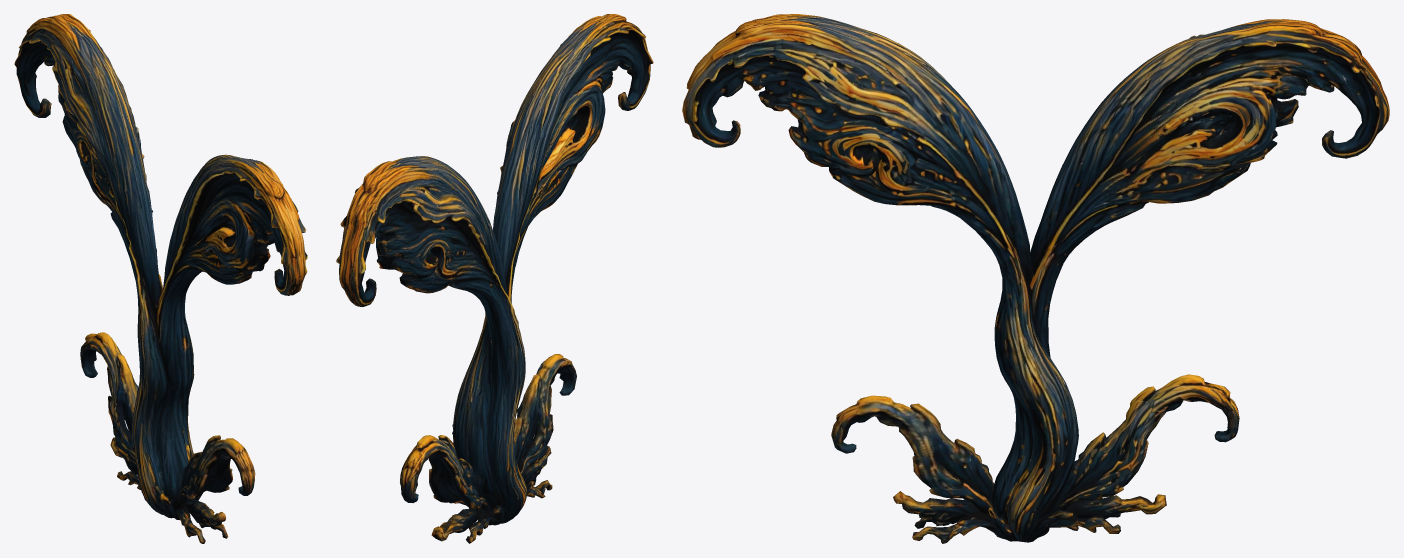
File: y-shaped+plant+3d+model+1k.glb
The picture shows the model from 3 angles, left to right: view 1: azimuth 30°, elevation 25°; view 2: azimuth 150°, elevation 25°; view 3: azimuth 270°, elevation 25°; orthographic projection. The views are drawn at different scales.
Parts seen in each view (by area): view 1: tripo_node_b3a52a74-3a1e-4b77-9e0b-5d9bd2315a94; view 2: tripo_node_b3a52a74-3a1e-4b77-9e0b-5d9bd2315a94; view 3: tripo_node_b3a52a74-3a1e-4b77-9e0b-5d9bd2315a94.
Boxes of the visible parts, x1,y1,x2,y2 form: tripo_node_b3a52a74-3a1e-4b77-9e0b-5d9bd2315a94: (14, 14, 307, 543); tripo_node_b3a52a74-3a1e-4b77-9e0b-5d9bd2315a94: (336, 14, 653, 543); tripo_node_b3a52a74-3a1e-4b77-9e0b-5d9bd2315a94: (682, 14, 1389, 543).
Size of the model in its own units: 0.1153 by 0.8124 by 1.
1 material, 1 textured.
